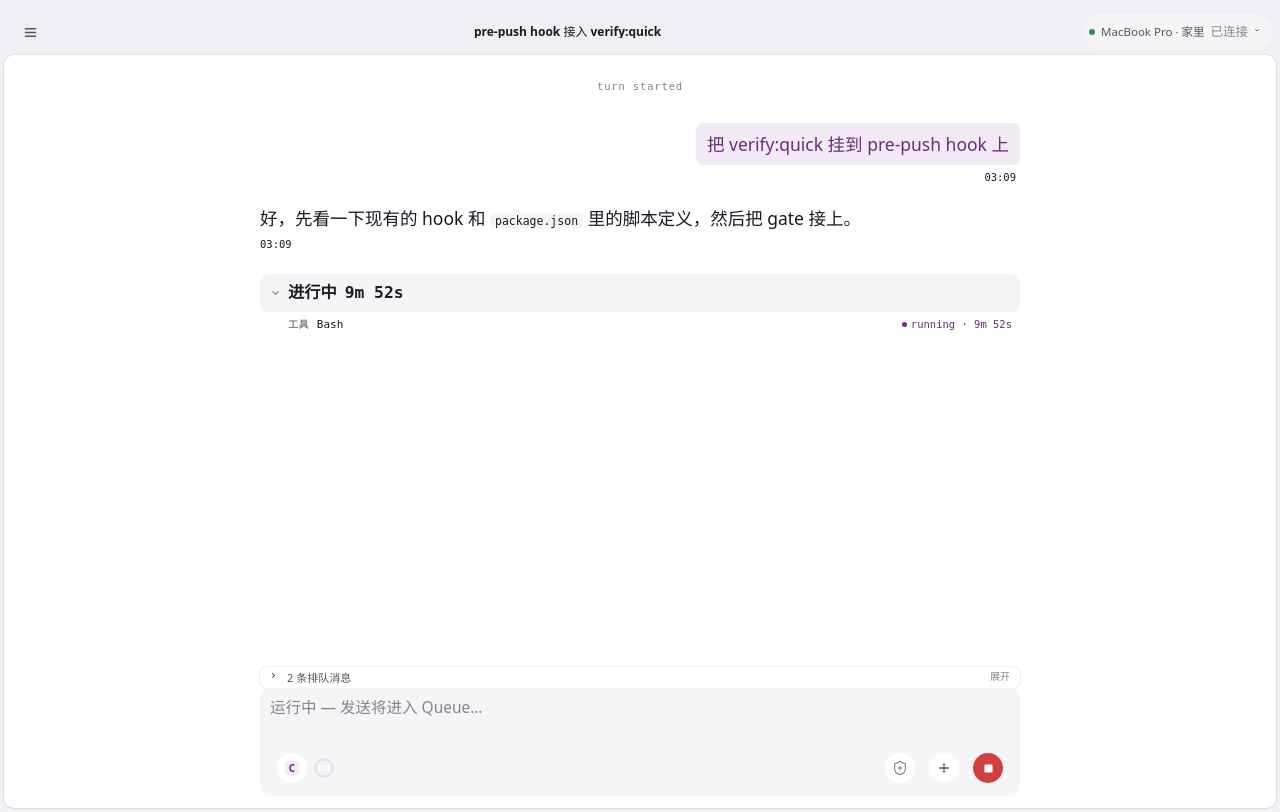
Test case: chat + composer (B5) › narrow layouts collapse the config controls into the proxy icon (2026-09-15 framework sync)
Expected: the button with test id "rw-approval-chip" does not show "Ask", [878,746,922,790]
What coordinates should you click on to do the following:
click the button named "Model / Thinking / Fast"
I would click on:
 (292, 768)
Its box is [270,746,314,790].
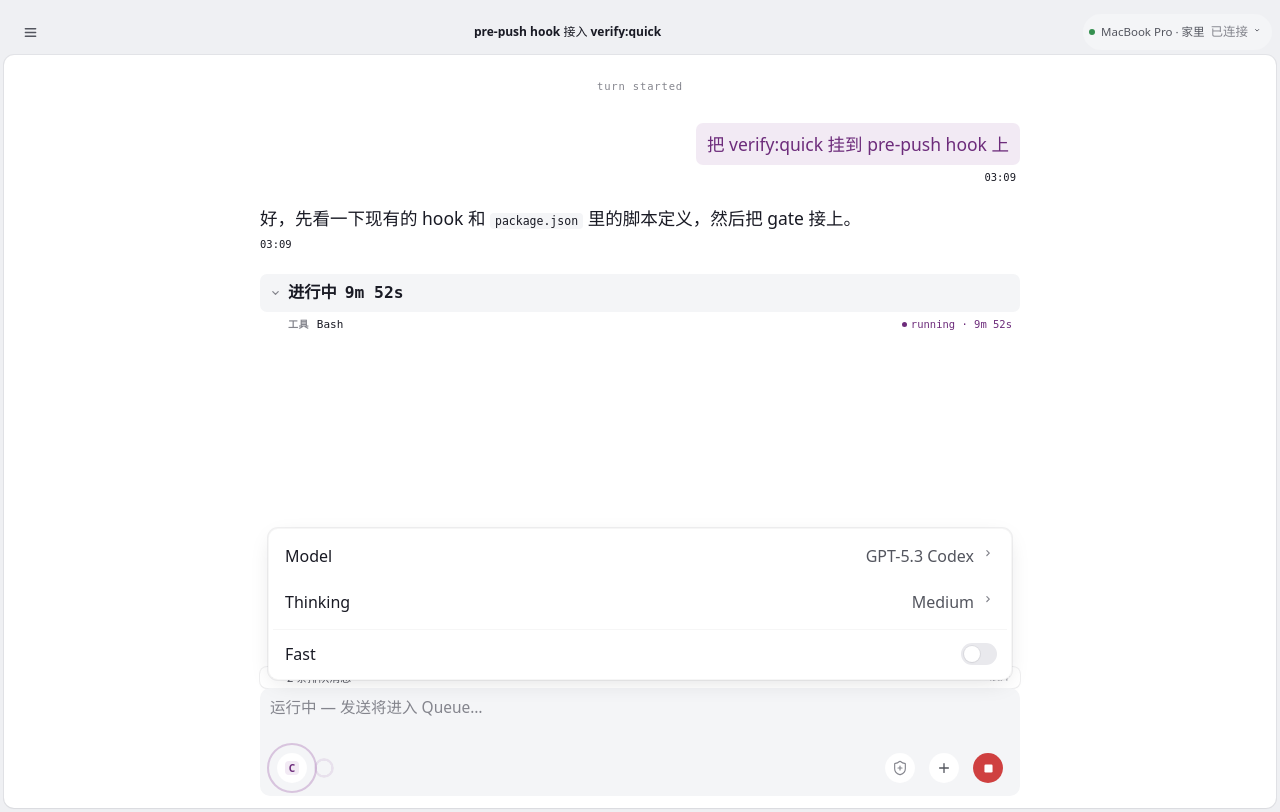
Expected: the menu item "Model GPT-5.3 Codex" is shown, [273,532,1007,578]
Expected: the menu item "Thinking Medium" is shown, [273,578,1007,624]
